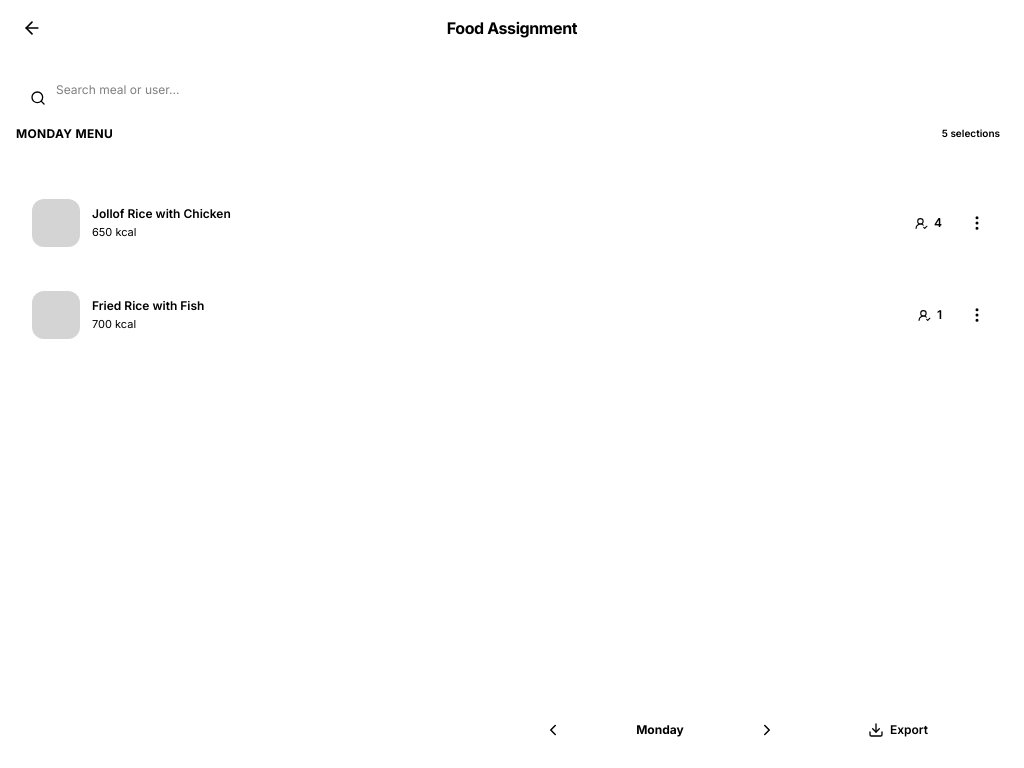
Test: SelectionActivity (Food Assignment) › expands meal to show assigned recipients list
Expected: the text "1. Alice Smith" is not shown
What coordinates should you click on to do the following:
click the heading "Jollof Rice with Chicken"
I would click on:
 (161, 213)
Its box is [92,206,231,220].
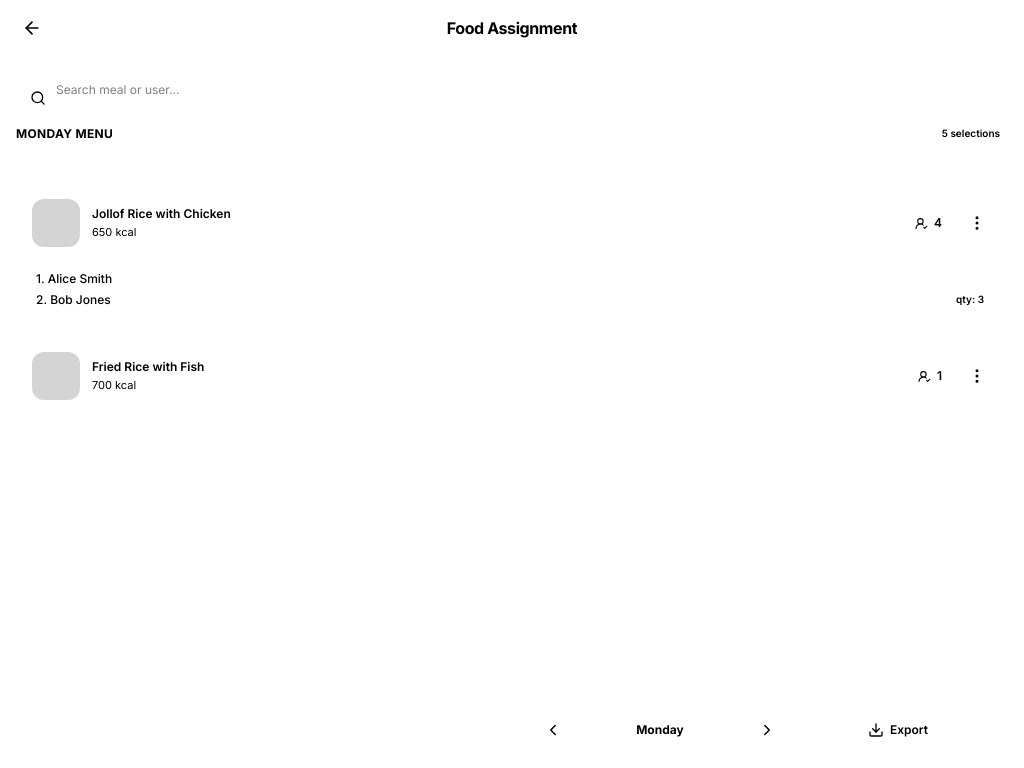
Now the text "1. Alice Smith" is shown, box [36,271,112,287]
Now the text "2. Bob Jones" is shown, box [36,292,111,308]
Now the text "qty: 3" is shown, box [956,293,984,306]
